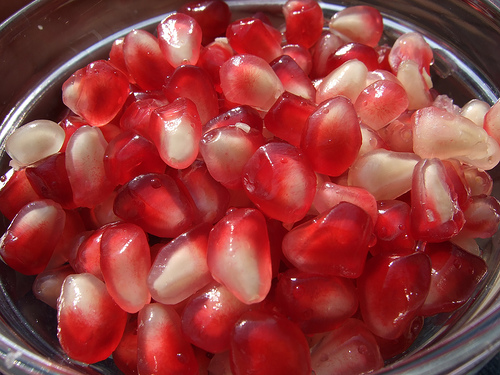pomogranate: (2, 2, 499, 374)
